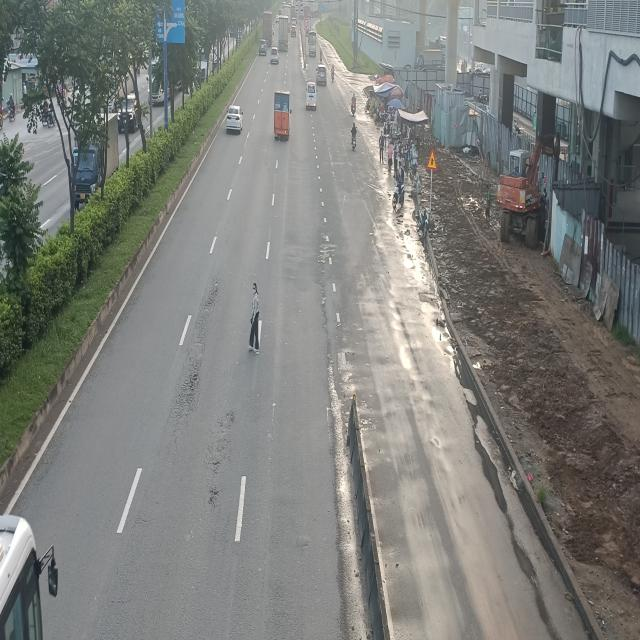car: (227, 105, 244, 134)
truck: (274, 90, 291, 141)
van: (305, 84, 318, 112)
